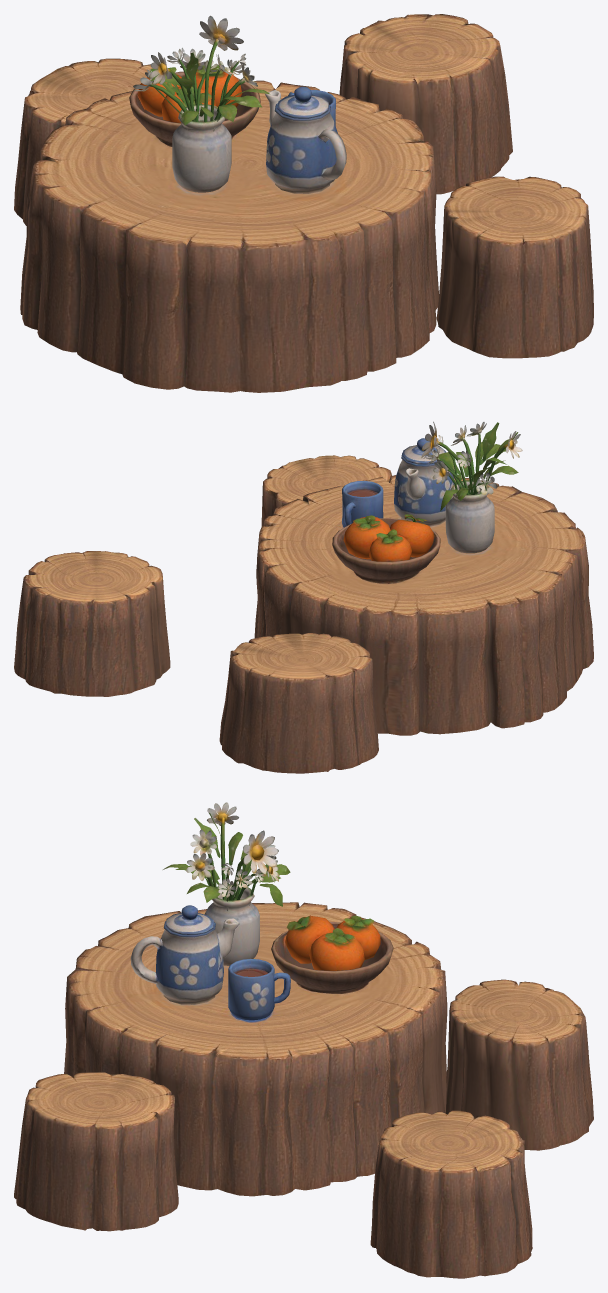
File: log_table.glb
The picture shows the model from 3 angles, top to bottom: view 1: azimuth 30°, elevation 25°; view 2: azimuth 150°, elevation 25°; view 3: azimuth 270°, elevation 25°; orthographic projection. The views are drawn at different scales.
Parts seen in each view (by area): view 1: tripo_node_da656438-41ad-426b-84c3-8722c225b344; view 2: tripo_node_da656438-41ad-426b-84c3-8722c225b344; view 3: tripo_node_da656438-41ad-426b-84c3-8722c225b344.
Boxes of the visible parts, x1=… form: tripo_node_da656438-41ad-426b-84c3-8722c225b344: x1=14, y1=14, x2=593, y2=392; tripo_node_da656438-41ad-426b-84c3-8722c225b344: x1=14, y1=421, x2=593, y2=773; tripo_node_da656438-41ad-426b-84c3-8722c225b344: x1=14, y1=802, x2=593, y2=1278.
Bounding box in the file's own units: 0.9995 × 0.5132 × 0.9858.
1 material, 1 textured.
